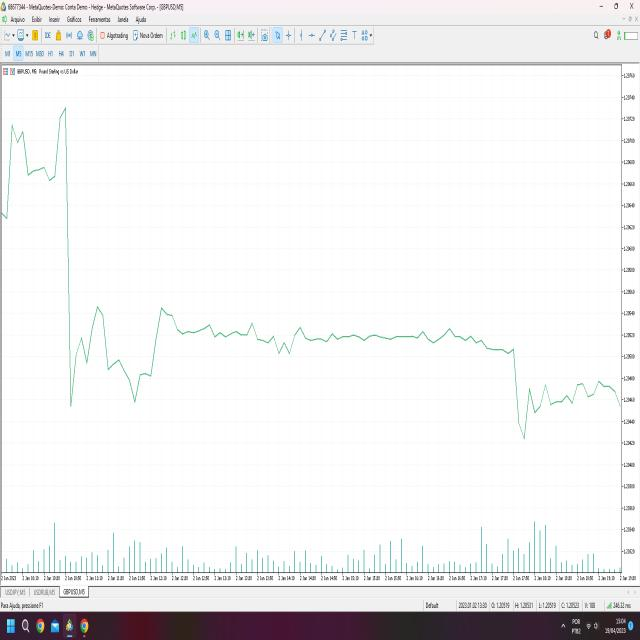bandeira_baixa: (59, 96, 121, 416)
